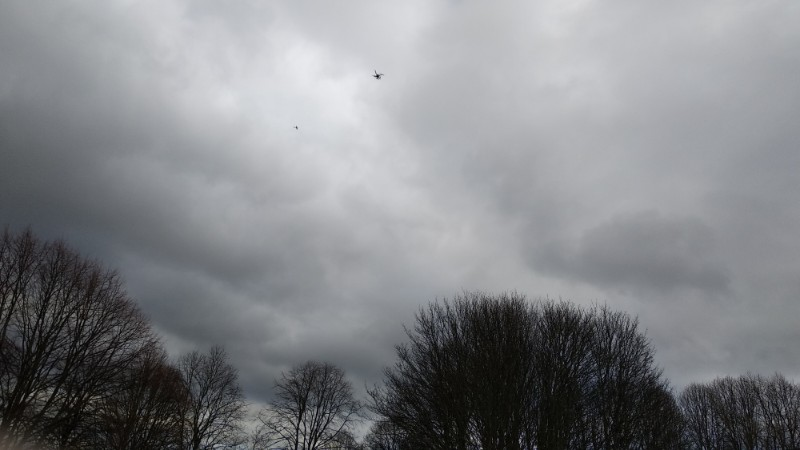drone: (370, 69, 387, 81)
